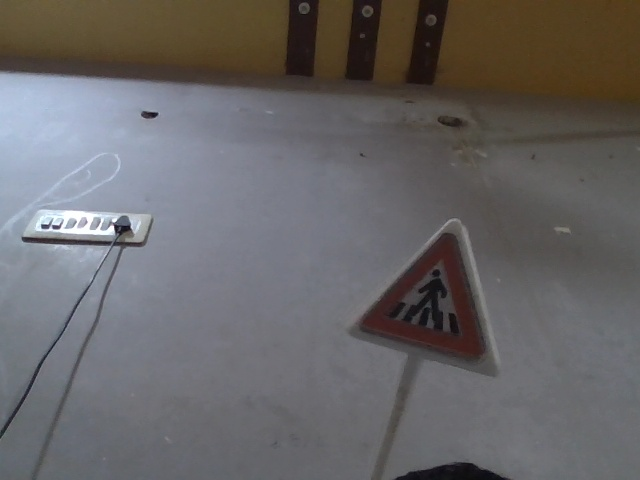crossing: (339, 191, 495, 374)
